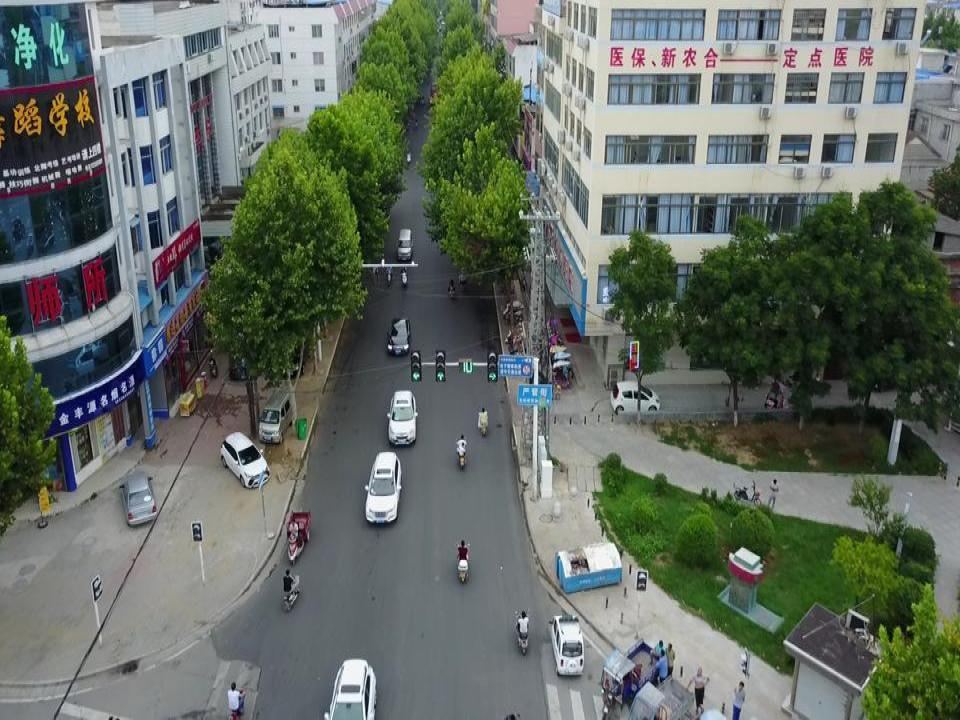car: (324, 657, 383, 720), (119, 474, 157, 526), (387, 316, 411, 355)
van: (220, 429, 271, 488), (364, 452, 402, 521), (548, 615, 584, 676), (258, 387, 295, 444), (280, 321, 312, 376), (387, 389, 418, 444), (610, 381, 660, 415), (229, 328, 260, 379), (396, 228, 413, 260)
